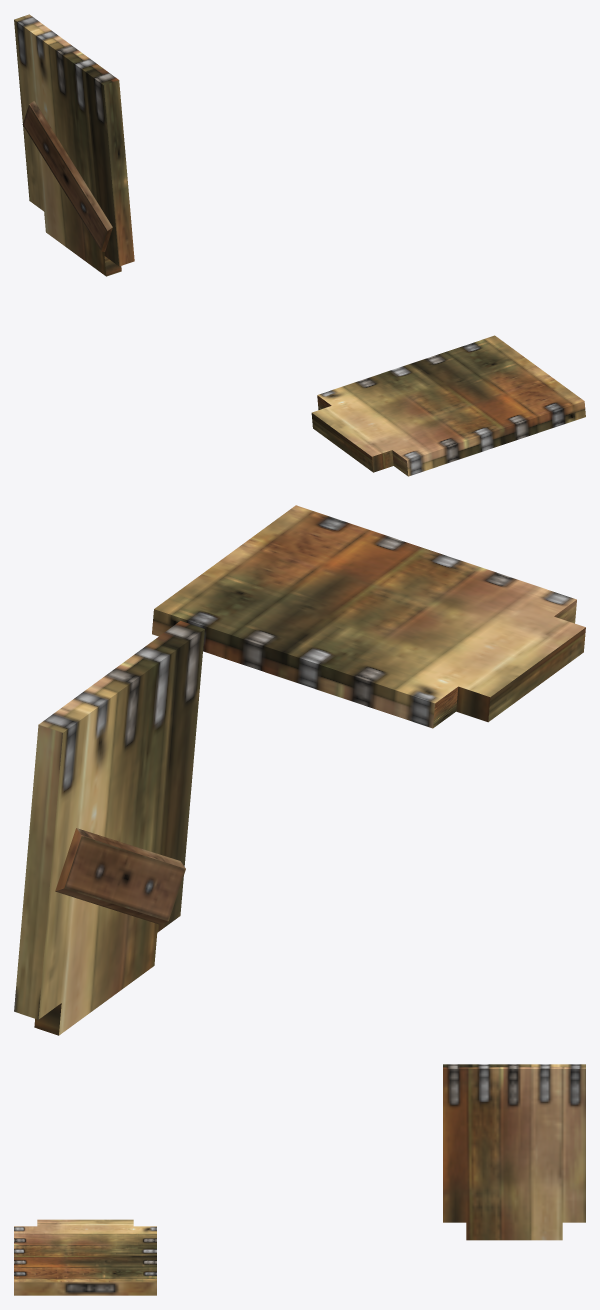
The model's file is P_Modul_19_Flaps.obj.
The picture shows the model from 3 angles, top to bottom: view 1: azimuth 30°, elevation 25°; view 2: azimuth 150°, elevation 25°; view 3: azimuth 270°, elevation 25°; orthographic projection. The views are drawn at different scales.
Parts seen in each view (by area): view 1: P_Modul_19_Flaps; view 2: P_Modul_19_Flaps; view 3: P_Modul_19_Flaps.
Part boxes in pixels (x1,y1,x2,y2): P_Modul_19_Flaps: (14, 14, 585, 476); P_Modul_19_Flaps: (14, 505, 585, 1035); P_Modul_19_Flaps: (14, 1064, 585, 1295).
Size of the model in its own units: 6.85 by 6.42 by 20.
